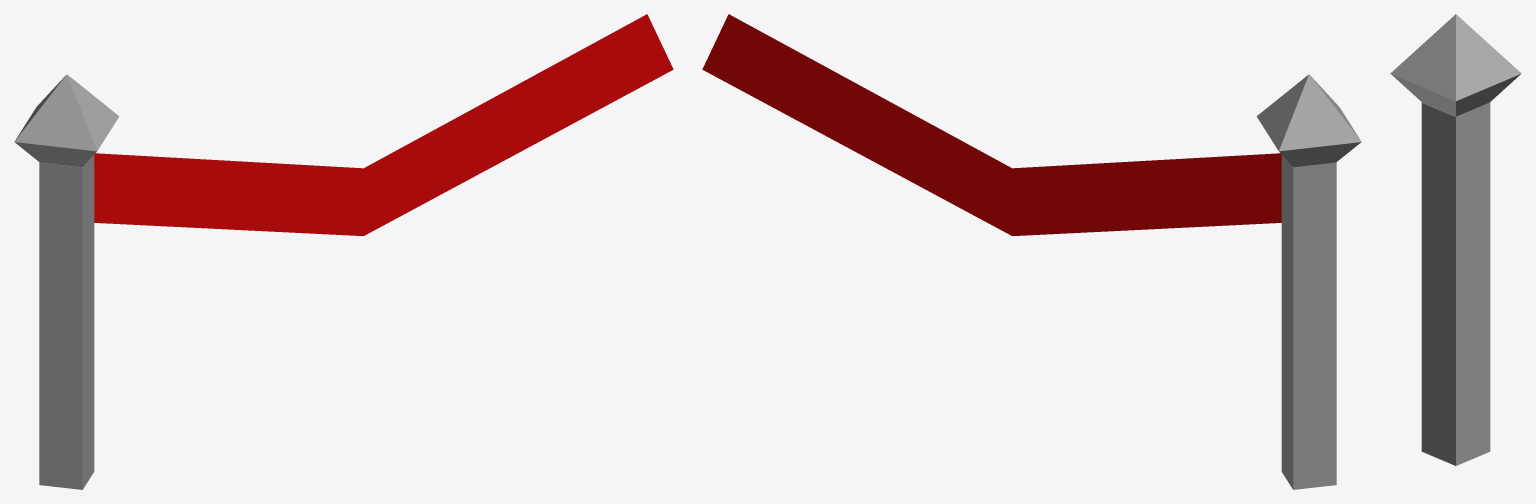
The model's file is adornoparque.fbx.
3 renders of one model, left to right at view 1: azimuth 30°, elevation 25°; view 2: azimuth 150°, elevation 25°; view 3: azimuth 270°, elevation 25°, orthographic. The views are drawn at different scales.
Parts seen in each view (by area): view 1: pCube74; view 2: pCube74; view 3: pCube74.
Boxes of the visible parts, <box> form: pCube74: <box>14,14,673,489</box>; pCube74: <box>702,14,1361,489</box>; pCube74: <box>1390,14,1521,465</box>.
Size of the model in its own units: 222 by 130 by 35.43.
